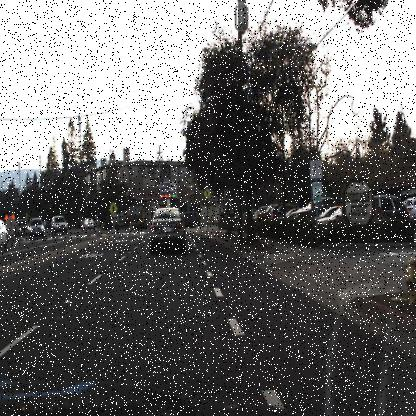car: (330, 198, 413, 225), (147, 205, 187, 258), (292, 194, 338, 223), (267, 197, 296, 223), (182, 209, 204, 236), (27, 215, 46, 242), (49, 214, 70, 238), (15, 216, 32, 240), (80, 212, 95, 235), (82, 215, 100, 234), (0, 218, 9, 250)
